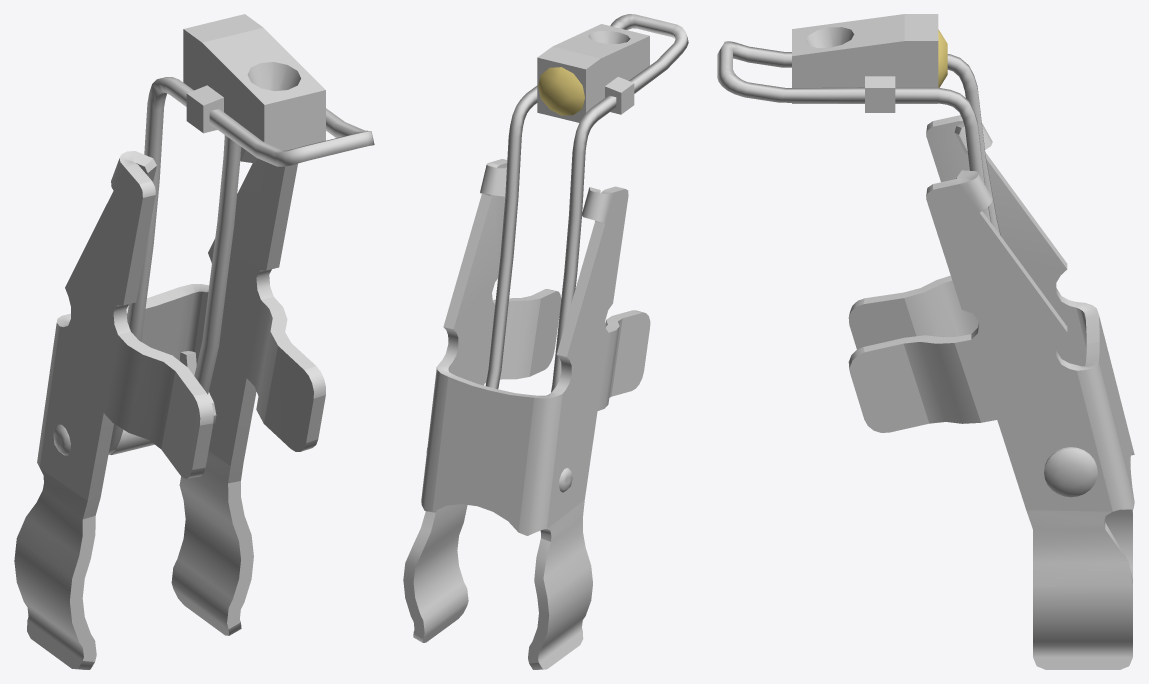
Rendered from sight_front_ak_izhmash_akmp.fbx.
3 views of the same model, side by side, from view 1: azimuth 30°, elevation 25°; view 2: azimuth 150°, elevation 25°; view 3: azimuth 270°, elevation 25° (orthographic). The views are drawn at different scales.
Visible parts, largest first — view 1: sight_front_ak_izhmash_akmp_LOD0; view 2: sight_front_ak_izhmash_akmp_LOD0; view 3: sight_front_ak_izhmash_akmp_LOD0.
Boxes of the visible parts, left/top/right/bottom form: sight_front_ak_izhmash_akmp_LOD0: left=14, top=14, right=374, bottom=669; sight_front_ak_izhmash_akmp_LOD0: left=403, top=14, right=688, bottom=669; sight_front_ak_izhmash_akmp_LOD0: left=717, top=14, right=1134, bottom=669.
Size of what is drawn, in the model's own units: 0.0171 by 0.06 by 0.0372.
